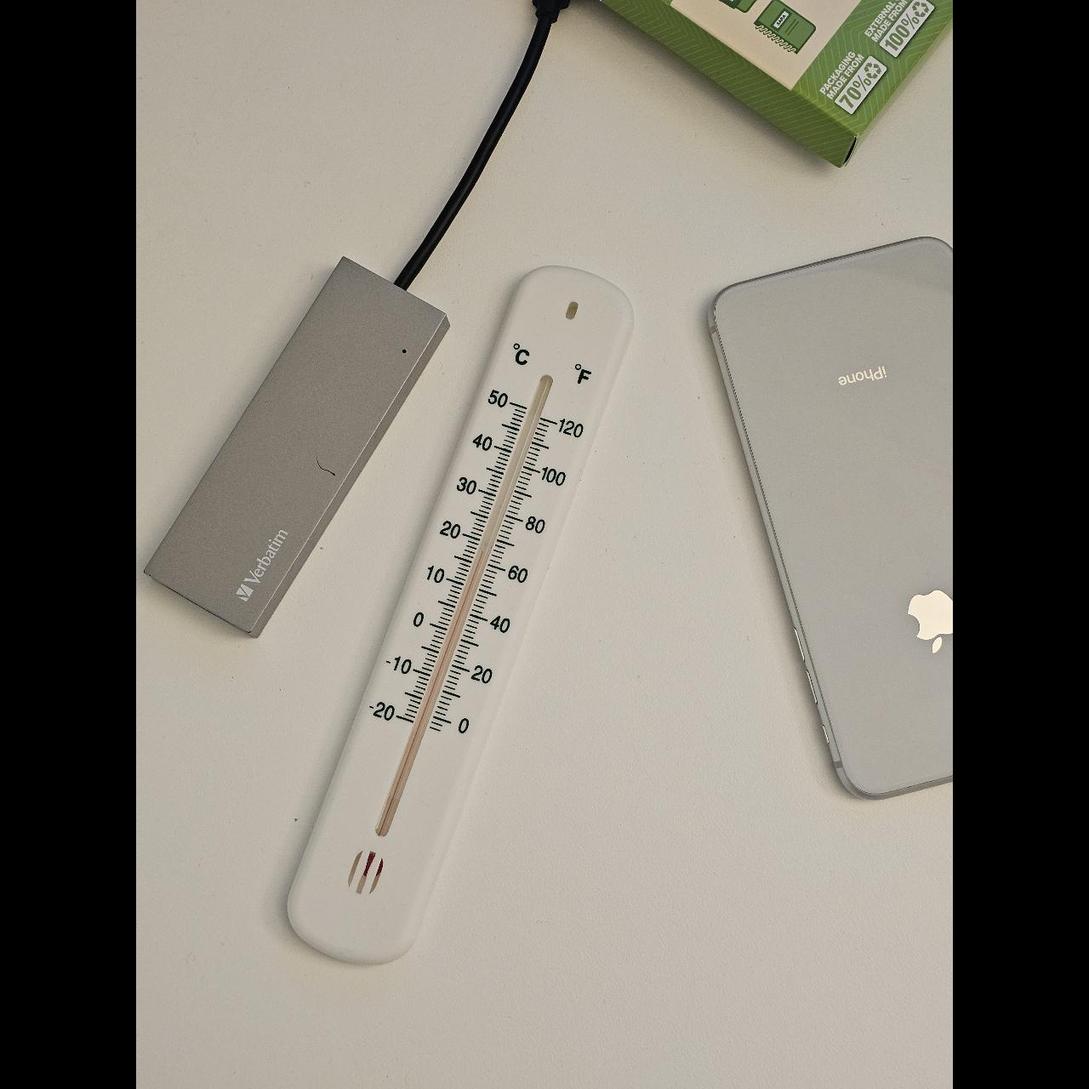thermometer: (287, 262, 637, 964)
